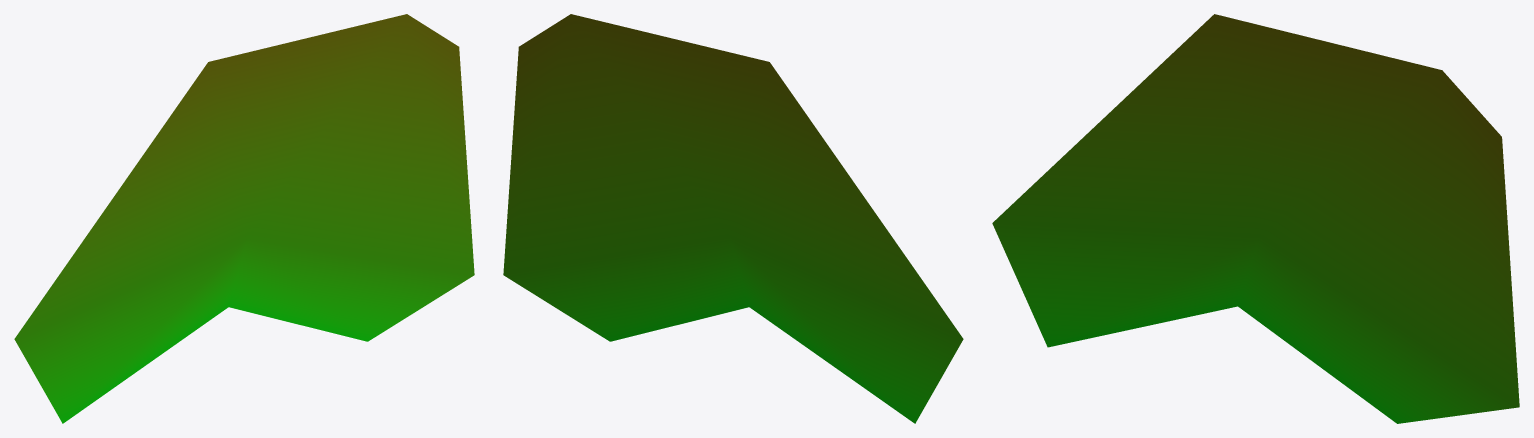
Rendered from Fern_LOD3_Var6_sbslY.fbx.
3 views of the same model, side by side, from view 1: azimuth 30°, elevation 25°; view 2: azimuth 150°, elevation 25°; view 3: azimuth 330°, elevation 25° (orthographic). The views are drawn at different scales.
Parts seen in each view (by area): view 1: _bfc9_Var6_LOD3; view 2: _bfc9_Var6_LOD3; view 3: _bfc9_Var6_LOD3.
Part boxes in pixels (x1,y1,x2,y2): _bfc9_Var6_LOD3: (14,14,474,423); _bfc9_Var6_LOD3: (503,14,963,423); _bfc9_Var6_LOD3: (992,14,1519,423).
Size of the model in its own units: 96.68 by 65.54 by 0.000126.
